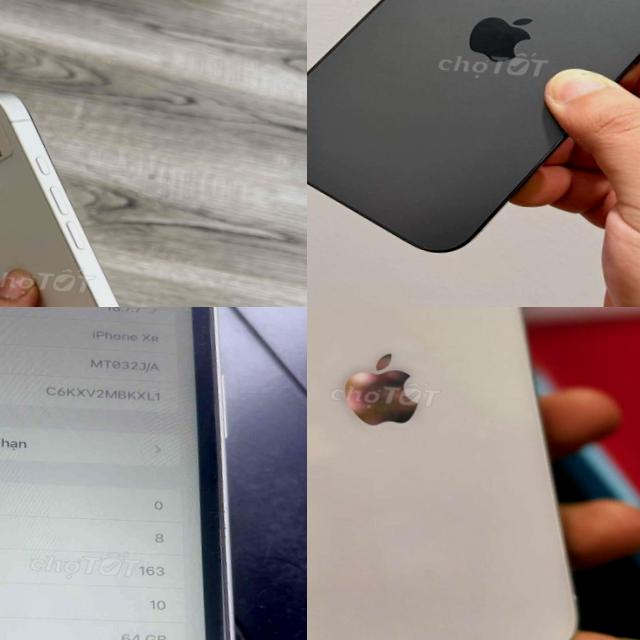gen_12_13: (307, 307, 619, 640)
gen_14: (307, 0, 640, 275)
gen_17: (0, 77, 200, 307)
gen_x_xs: (0, 307, 306, 640)
